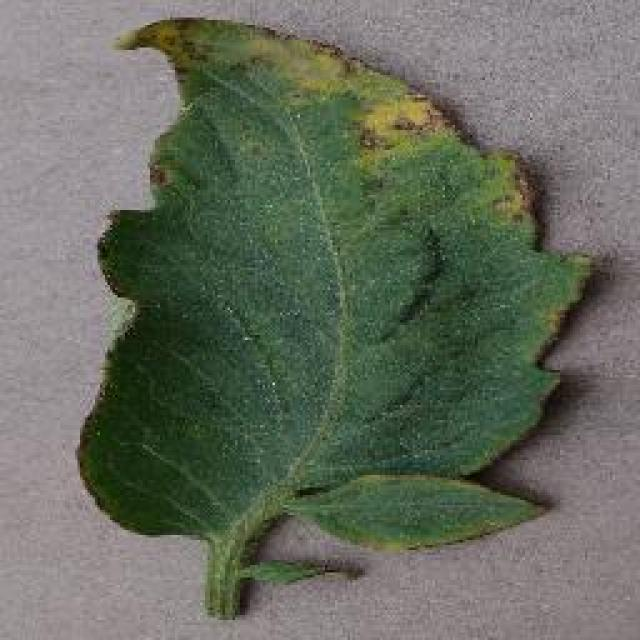Tom_Bacterial_spot: (135, 8, 340, 110), (353, 61, 465, 175), (476, 148, 556, 238), (128, 130, 192, 208)
